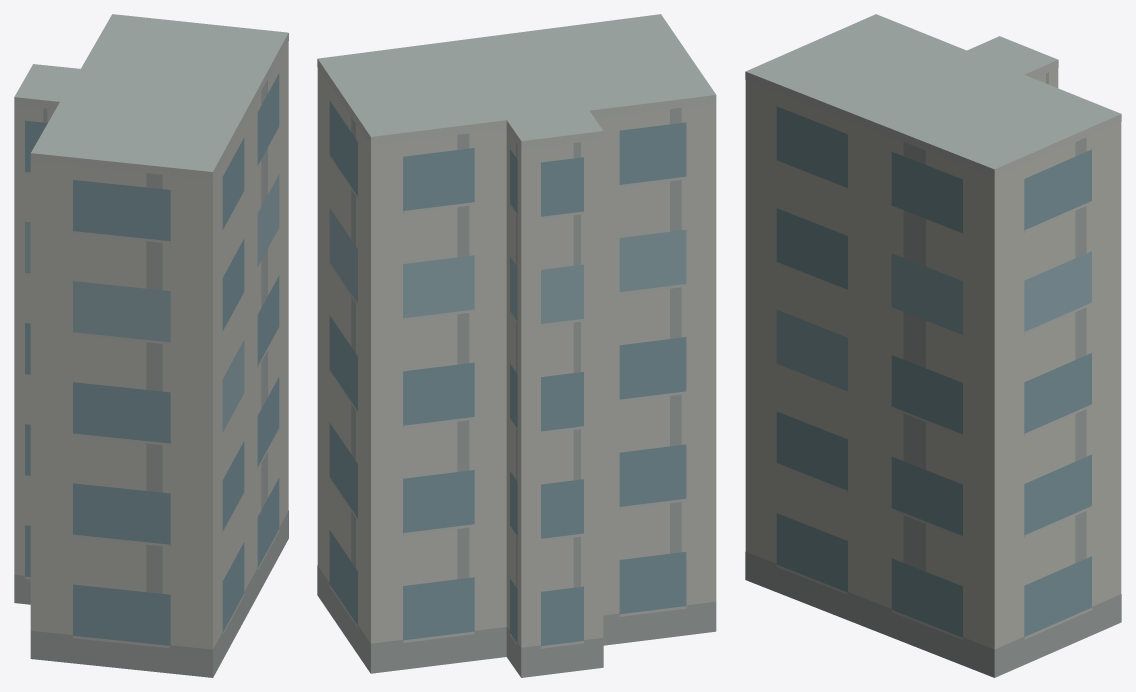
The model's file is survey-upis-32799488.glb.
The picture shows the model from 3 angles, left to right: view 1: azimuth 30°, elevation 25°; view 2: azimuth 150°, elevation 25°; view 3: azimuth 270°, elevation 25°; orthographic projection. The views are drawn at different scales.
Parts seen in each view (by area): view 1: survey-upis-32799488.tmp; view 2: survey-upis-32799488.tmp; view 3: survey-upis-32799488.tmp.
Part boxes in pixels (bbox=[...]): survey-upis-32799488.tmp: bbox=[14, 14, 288, 677]; survey-upis-32799488.tmp: bbox=[317, 14, 716, 677]; survey-upis-32799488.tmp: bbox=[745, 14, 1121, 677].
Bounding box in the file's own units: 10.01 × 15.25 × 10.23.
